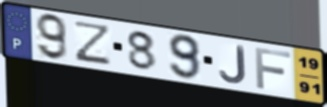8: (126, 29, 160, 72)
9: (166, 33, 203, 82), (34, 12, 69, 63)
F: (253, 46, 293, 91)
J: (218, 45, 248, 86)
Z: (73, 19, 113, 66)
